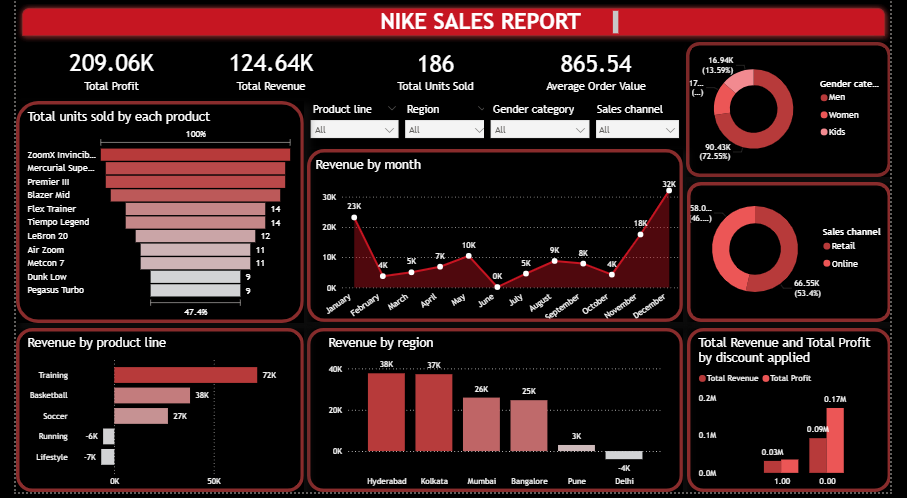

The dashboard page shown, as its layout file describes it:
{"tool":"powerbi","page":{"name":"Page 1","canvas":[1280,720],"ordinal":0},"visuals":[{"type":"card","fields":{"Values":["Sales.Total Profit"]},"box":[0,49.8,279.5,101],"z":0},{"type":"card","fields":{"Values":["Sales.Total Revenue"]},"box":[232.7,49.8,281,101],"z":1000},{"type":"card","fields":{"Values":["Sales.Total Units Sold"]},"box":[487.3,51.2,253.2,99.5],"z":2000},{"type":"card","fields":{"Values":["Sales.Average Order Value"]},"box":[708.3,51.2,281,99.5],"z":3000},{"type":"lineChart","title":"Revenue by month","fields":{"Category":["Sales.Month Name"],"Y":["Sum(Sales.revenue)"]},"box":[433.2,229.8,544.4,260.5],"z":4000},{"type":"clusteredBarChart","title":"Revenue by product line","fields":{"Category":["Sales.product_line"],"Y":["Sum(Sales.revenue)"]},"box":[11.7,490.2,398,229.8],"z":5000},{"type":"funnel","title":"Total units sold by each product","fields":{"Category":["Sales.product_name"],"Y":["Sales.Total Units Sold"]},"box":[11.7,159.5,399.5,310.2],"z":6000},{"type":"columnChart","title":"Revenue by region","fields":{"Category":["Sales.region"],"Y":["Sum(Sales.revenue)"]},"box":[452.2,490.2,499,229.8],"z":7000},{"type":"donutChart","fields":{"Category":["Sales.sales_channel"],"Y":["Sum(Sales.revenue)"]},"box":[977.6,259,302.9,210.7],"z":8000},{"type":"clusteredColumnChart","title":"Total Revenue and Total Profit by discount applied","fields":{"Category":["Sales.discount_applied"],"Y":["Sales.Total Revenue","Sales.Total Profit"]},"box":[993.7,490.2,285.4,229.8],"z":9000},{"type":"slicer","fields":{"Values":["Sales.region"]},"box":[559,144.9,142,64.4],"z":10000},{"type":"slicer","fields":{"Values":["Sales.product_line"]},"box":[421.5,144.9,147.8,64.4],"z":11000},{"type":"slicer","fields":{"Values":["Sales.sales_channel"]},"box":[837.1,144.9,143.4,64.4],"z":12000},{"type":"slicer","fields":{"Values":["Sales.gender_category"]},"box":[684.9,144.9,163.9,64.4],"z":13000},{"type":"donutChart","fields":{"Y":["Sum(Sales.revenue)"],"Category":["Sales.gender_category"]},"box":[977.6,43.9,302.9,231.2],"z":14000},{"type":"shape","box":[0,2.9,1280.5,58.5],"z":15000},{"type":"textbox","box":[481.5,8.8,405.4,45.4],"z":16000},{"type":"shape","box":[0,147.8,421.5,324.9],"z":17000},{"type":"shape","box":[425.9,218,550.2,253.2],"z":18000},{"type":"shape","box":[980.5,61.5,300,197.6],"z":19000},{"type":"shape","box":[981.4,266.3,298.5,204.9],"z":20000},{"type":"shape","box":[425.9,480,550.2,240],"z":21000},{"type":"shape","box":[982,480,298.5,240],"z":22000},{"type":"shape","box":[0,480,421.5,240],"z":23000}]}

Visuals, with their boxes in screenshot pixels (x1, y1, x2, y2), scaled from the page's 1280x720 canvas onto the 907x498 screenshot:
card - Sales.Total Profit: bbox(0, 34, 198, 104)
card - Sales.Total Revenue: bbox(165, 34, 364, 104)
card - Sales.Total Units Sold: bbox(345, 35, 525, 104)
card - Sales.Average Order Value: bbox(502, 35, 701, 104)
"Revenue by month" lineChart: bbox(307, 159, 693, 339)
"Revenue by product line" clusteredBarChart: bbox(8, 339, 290, 497)
"Total units sold by each product" funnel: bbox(8, 110, 291, 325)
"Revenue by region" columnChart: bbox(320, 339, 674, 497)
donutChart - Sales.sales_channel x Sum(Sales.revenue): bbox(693, 179, 906, 325)
"Total Revenue and Total Profit by discount applied" clusteredColumnChart: bbox(704, 339, 906, 497)
slicer - Sales.region: bbox(396, 100, 497, 145)
slicer - Sales.product_line: bbox(299, 100, 403, 145)
slicer - Sales.sales_channel: bbox(593, 100, 695, 145)
slicer - Sales.gender_category: bbox(485, 100, 601, 145)
donutChart - Sum(Sales.revenue) x Sales.gender_category: bbox(693, 30, 906, 190)
shape: bbox(0, 2, 906, 42)
textbox: bbox(341, 6, 628, 37)
shape: bbox(0, 102, 299, 327)
shape: bbox(302, 151, 692, 326)
shape: bbox(695, 43, 906, 179)
shape: bbox(695, 184, 906, 326)
shape: bbox(302, 332, 692, 497)
shape: bbox(696, 332, 906, 497)
shape: bbox(0, 332, 299, 497)
